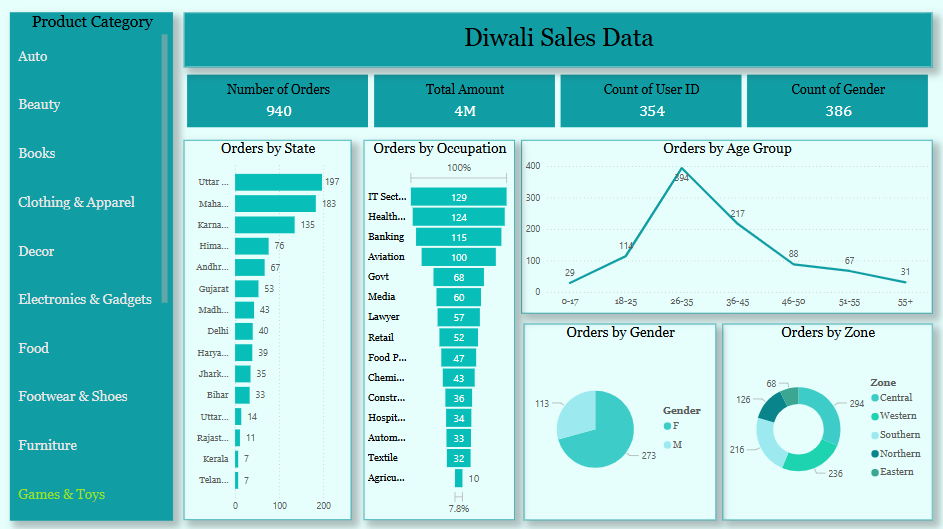

Layout of this report page (visuals, bound fields, positions):
{"tool":"powerbi","page":{"name":"Page 1","canvas":[1280,720],"ordinal":0},"visuals":[{"type":"advancedSlicerVisual","title":"Product Category","fields":{"Values":["Diwali Sales Data.Product_Category"]},"box":[13.7,16.5,220.9,688.9],"z":0},{"type":"cardVisual","fields":{"Data":["Sum(Diwali Sales Data.Orders)","Sum(Diwali Sales Data.Amount)","Count(Diwali Sales Data.User_ID)","CountNonNull(Diwali Sales Data.Gender)"]},"box":[249.7,96.6,1015.3,81.4],"z":1000},{"type":"clusteredBarChart","title":"State","fields":{"Y":["Sum(Diwali Sales Data.Orders)"],"Category":["Diwali Sales Data.State"]},"box":[249.2,189.8,227.1,515.3],"z":2000},{"type":"shape","box":[249.7,16.9,1015.3,74.6],"z":3000},{"type":"textbox","title":"Diwali Sales Data","box":[378.5,32.2,759.3,44.1],"z":4000},{"type":"lineChart","title":"Orders by Age Group","fields":{"Y":["Sum(Diwali Sales Data.Orders)"],"Category":["Diwali Sales Data.Age Group"]},"box":[707.3,189.8,557.6,235.6],"z":5000},{"type":"pieChart","title":"Orders by Gender","fields":{"Category":["Diwali Sales Data.Gender"],"Y":["CountNonNull(Diwali Sales Data.Orders)"]},"box":[710.2,439,261,266.1],"z":6000},{"type":"donutChart","title":"Orders by Zone","fields":{"Category":["Diwali Sales Data.Zone"],"Y":["Sum(Diwali Sales Data.Orders)"]},"box":[979.7,439,284.7,266.1],"z":7000},{"type":"funnel","title":"Orders by Occupation","fields":{"Category":["Diwali Sales Data.Occupation"],"Y":["Sum(Diwali Sales Data.Orders)"]},"box":[493.2,189.8,205.1,515.3],"z":8000}]}

Visuals, with their boxes in screenshot pixels (x1, y1, x2, y2), scaled from the page's 1280x720 canvas onto the 943x529 screenshot:
"Product Category" advancedSlicerVisual: BBox(10, 12, 173, 518)
cardVisual - Sum(Diwali Sales Data.Orders) x Sum(Diwali Sales Data.Amount): BBox(184, 71, 932, 131)
"State" clusteredBarChart: BBox(184, 139, 351, 518)
shape: BBox(184, 12, 932, 67)
"Diwali Sales Data" textbox: BBox(279, 24, 838, 56)
"Orders by Age Group" lineChart: BBox(521, 139, 932, 313)
"Orders by Gender" pieChart: BBox(523, 323, 716, 518)
"Orders by Zone" donutChart: BBox(722, 323, 932, 518)
"Orders by Occupation" funnel: BBox(363, 139, 514, 518)
